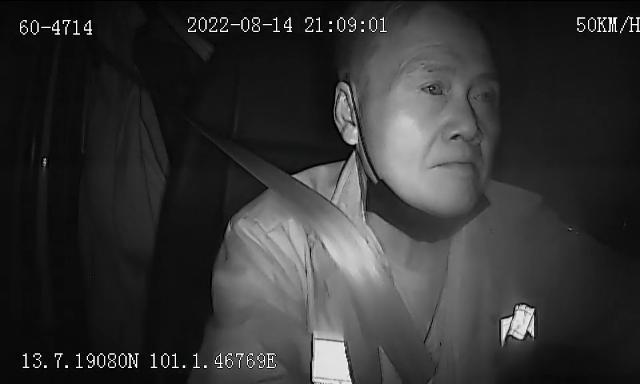SafeDriving: (413, 69, 453, 106), (466, 77, 500, 111)
Seatbelt: (185, 114, 439, 384)
